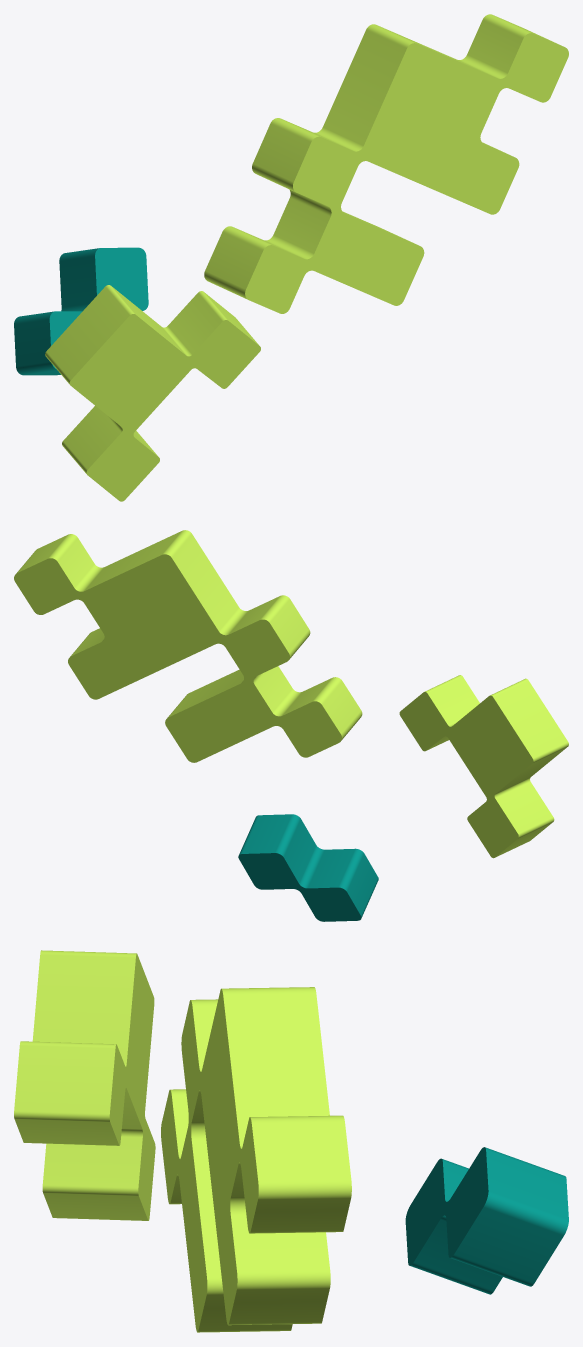
Rendered from homepage.gltf.
3 renders of one model, top to bottom at view 1: azimuth 30°, elevation 25°; view 2: azimuth 150°, elevation 25°; view 3: azimuth 270°, elevation 25°, orthographic. The views are drawn at different scales.
Visible parts, largest first — view 1: ź, Shape 0 (×2); view 2: ź, Shape 0 (×2); view 3: ź, Shape 0 (×2).
Part boxes in pixels (bbox=[...]): ź: bbox=[204, 14, 568, 313]; Shape 0 (×2): bbox=[14, 247, 260, 501]; ź: bbox=[14, 530, 362, 762]; Shape 0 (×2): bbox=[238, 675, 568, 921]; ź: bbox=[161, 987, 351, 1332]; Shape 0 (×2): bbox=[14, 950, 568, 1294].
Bounding box in the file's own units: 2.41 × 1.37 × 1.43.
